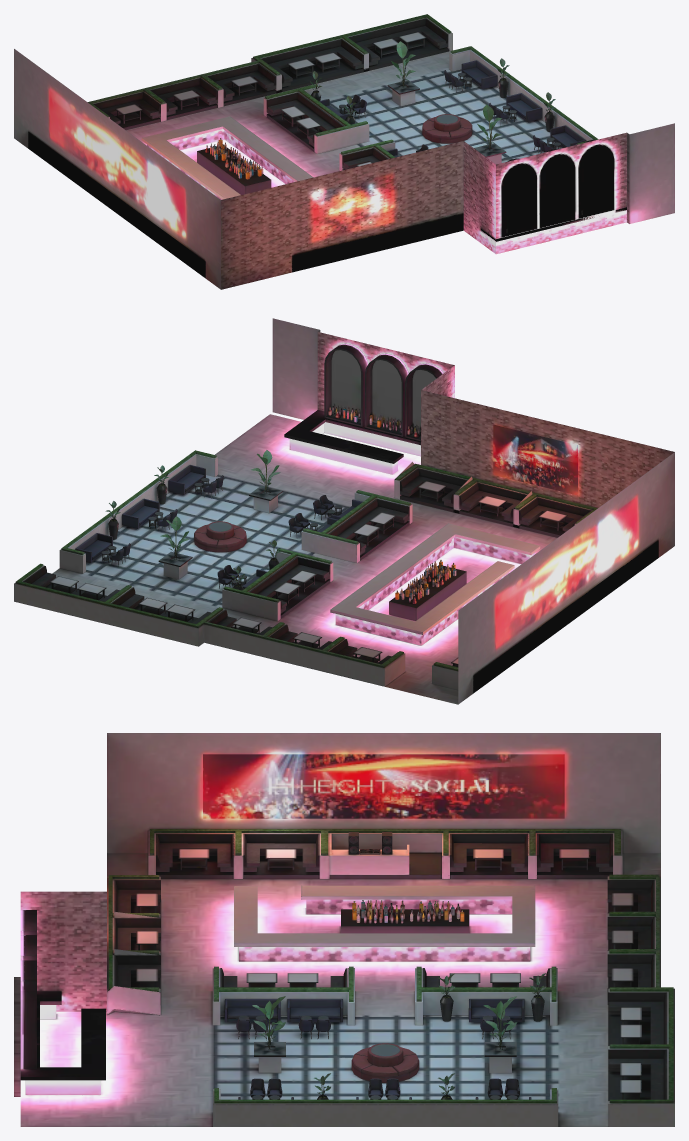
Rendered from Height Social Dallas Bake (1).glb.
3 views of the same model, one above another, from view 1: azimuth 30°, elevation 25°; view 2: azimuth 150°, elevation 25°; view 3: azimuth 270°, elevation 25° (orthographic). The views are drawn at different scales.
Parts seen in each view (by area): view 1: Stage_Baked; view 2: Stage_Baked; view 3: Stage_Baked, Stage_Baked.029, Stage_Baked.030.
Boxes of the visible parts, bbox=[...] form: Stage_Baked: bbox=[14, 14, 674, 289]; Stage_Baked: bbox=[14, 318, 674, 704]; Stage_Baked: bbox=[14, 733, 674, 1126]; Stage_Baked.029: bbox=[265, 849, 296, 870]; Stage_Baked.030: bbox=[178, 849, 209, 870].
Size of the model in its own units: 32 by 6.55 by 32.68.
Materials: 1 (1 with a texture image).
